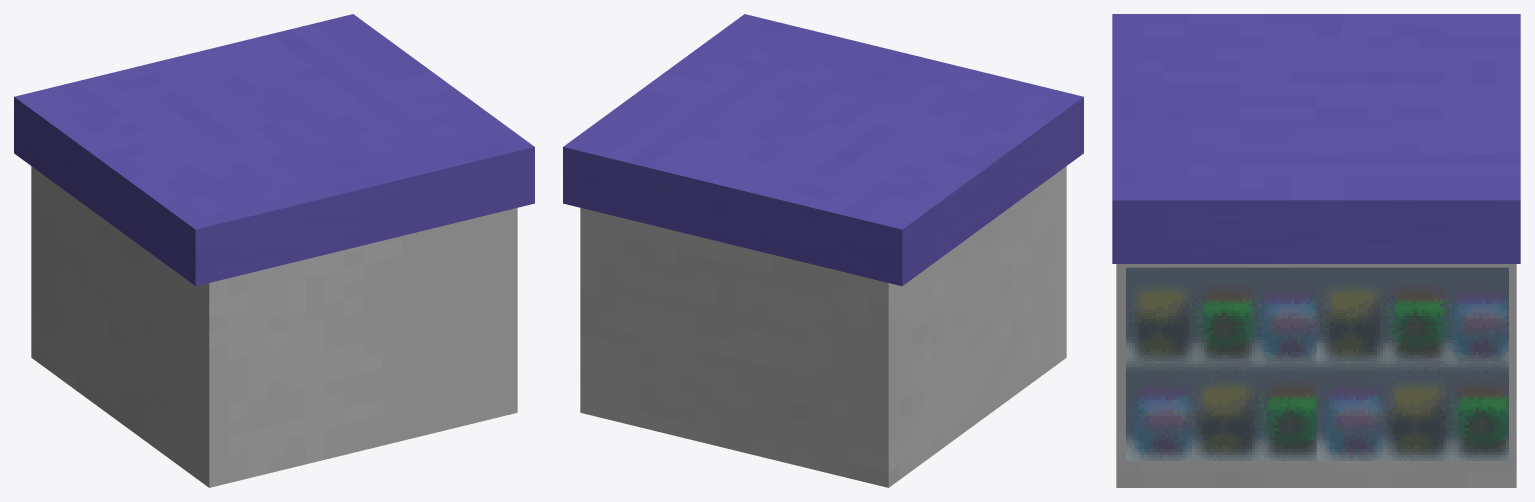
The model's file is mod_MesaMostrador.fbx.
The picture shows the model from 3 angles, left to right: view 1: azimuth 30°, elevation 25°; view 2: azimuth 150°, elevation 25°; view 3: azimuth 270°, elevation 25°; orthographic projection. The views are drawn at different scales.
Visible parts, largest first — view 1: msh_MesaMostrador, msh_MesaMostradorTop; view 2: msh_MesaMostrador, msh_MesaMostradorTop; view 3: msh_MesaMostradorTop, msh_Imagen1, msh_Imagen0, msh_MesaMostrador.
Part boxes in pixels (x1,y1,x2,y2): msh_MesaMostrador: [31, 166, 517, 487]; msh_MesaMostradorTop: [14, 14, 534, 286]; msh_MesaMostrador: [580, 166, 1066, 487]; msh_MesaMostradorTop: [563, 14, 1083, 286]; msh_MesaMostradorTop: [1112, 14, 1520, 263]; msh_Imagen1: [1317, 267, 1508, 460]; msh_Imagen0: [1126, 267, 1316, 460]; msh_MesaMostrador: [1116, 264, 1516, 487].
Size of the model in its own units: 110 by 81.6 by 102.
